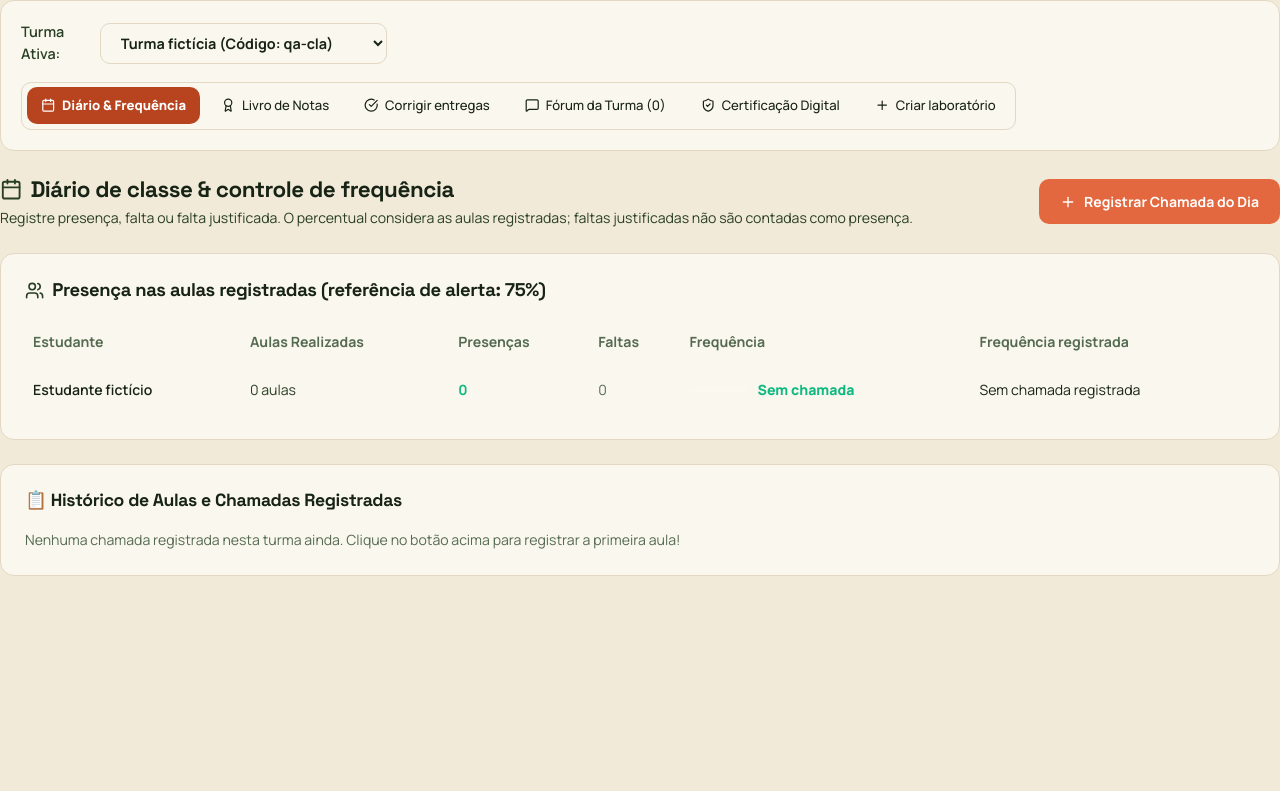
Test case: continuidade dos dados nos boletins e correção docente › correção apresenta somente respostas, medidas e conclusão presentes no envio
expect the text "Estudante fictício" is shown: met, box [25, 365, 242, 415]
Click the button "Corrigir entregas" at [427, 106], box [350, 88, 504, 124]
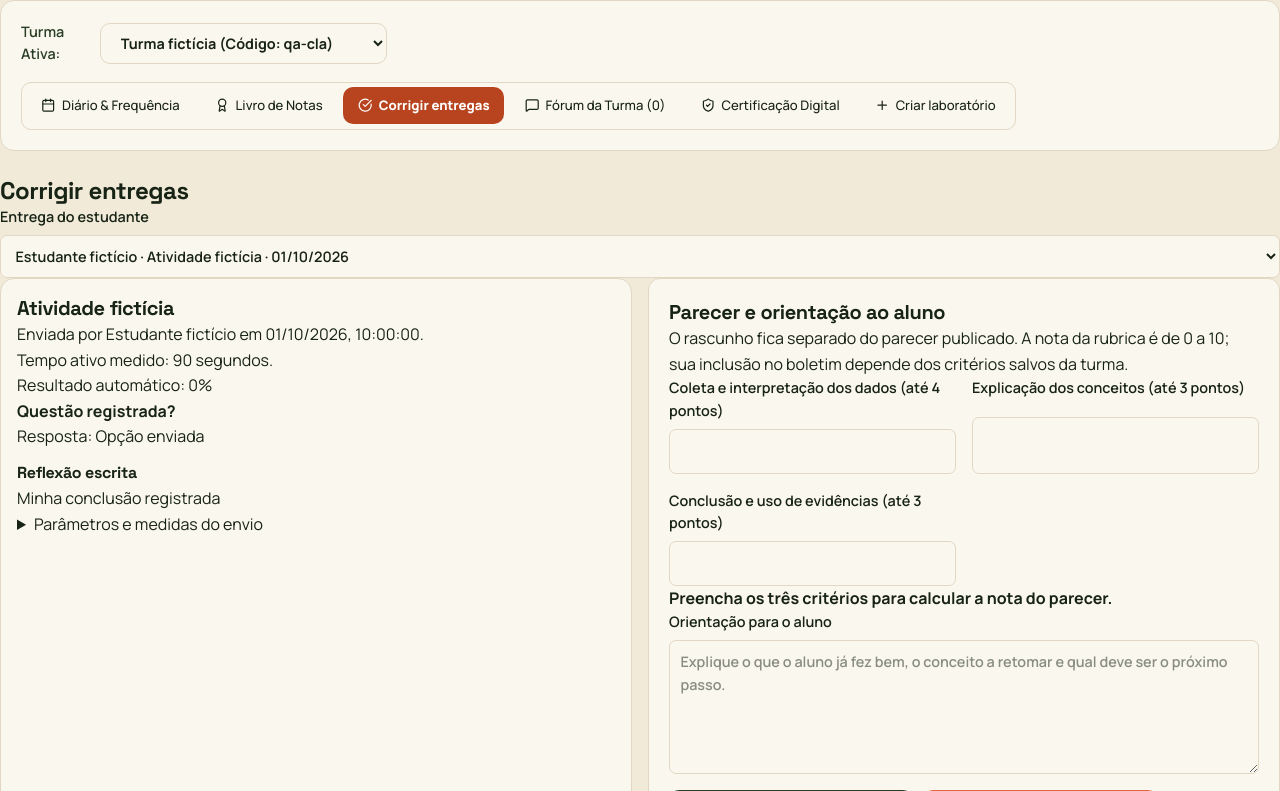
expect the text "Enviada por Estudante fictício em 01/10/2026, 10:00:00." is shown: met, box [17, 323, 424, 345]
expect the text "Minha conclusão registrada" is shown: met, box [17, 487, 220, 509]
expect the text "Questão registrada?" is shown: met, box [17, 400, 176, 422]
